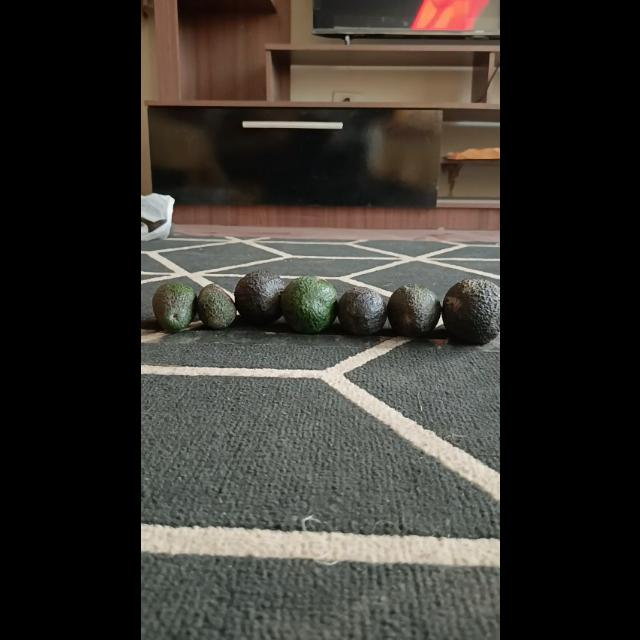Primera: (441, 278, 499, 344), (280, 276, 338, 332), (232, 268, 284, 326)
Segunda: (384, 282, 442, 338), (336, 284, 388, 336), (150, 281, 196, 333)
Tercera: (194, 282, 236, 330)
